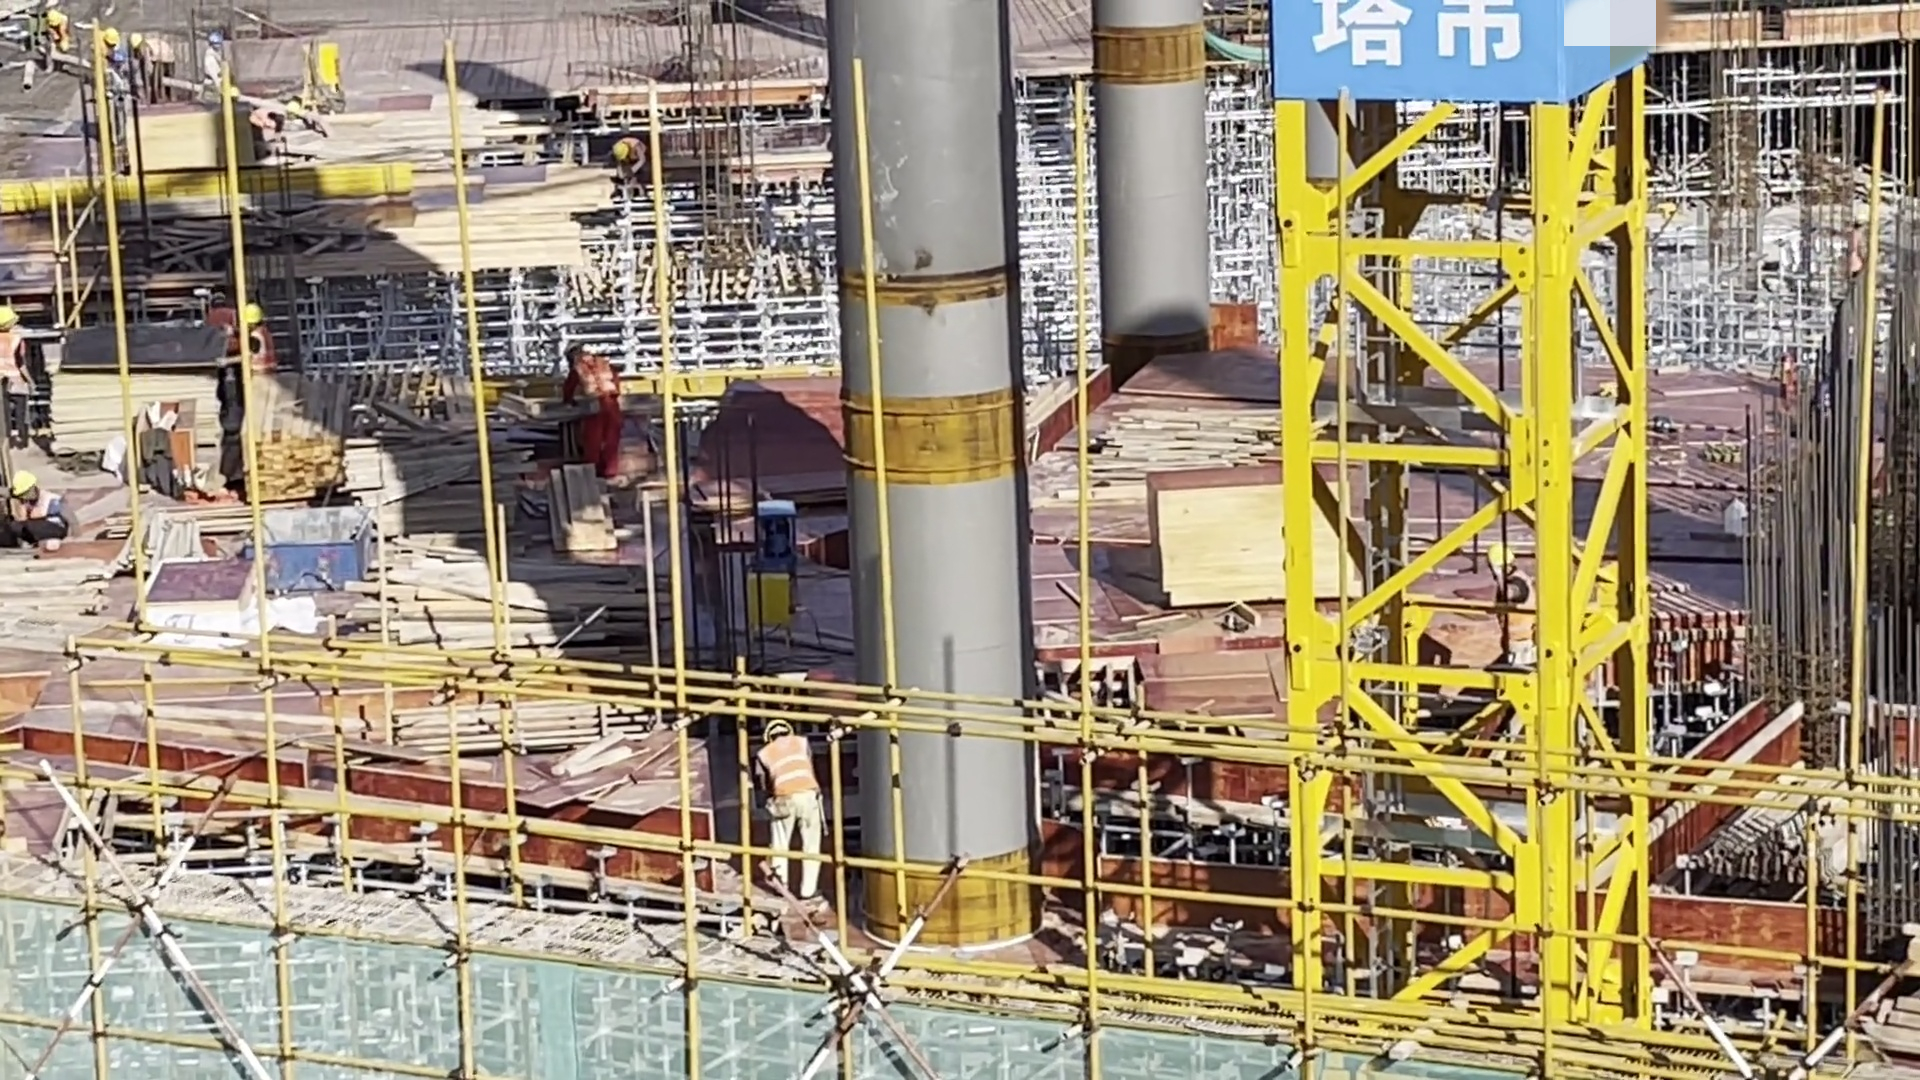board: (1149, 454, 1383, 622), (64, 321, 254, 414), (119, 104, 273, 191)
cutter: (646, 462, 818, 616)
ebox: (761, 569, 803, 646), (283, 36, 334, 87)
helmet: (754, 711, 789, 746), (4, 459, 33, 497), (233, 301, 266, 326), (1488, 549, 1521, 571), (1, 303, 28, 324), (288, 102, 304, 123), (569, 342, 599, 354), (611, 141, 629, 157), (216, 292, 235, 305), (218, 28, 228, 50), (108, 26, 118, 48), (129, 31, 140, 47), (48, 14, 60, 23)
hopper: (243, 501, 384, 594)
person: (758, 716, 836, 888), (1484, 545, 1548, 681), (569, 348, 621, 480), (3, 295, 45, 431), (9, 465, 78, 541), (134, 33, 188, 108), (1846, 200, 1886, 298), (614, 123, 668, 183), (241, 307, 270, 374), (254, 102, 306, 139), (38, 4, 79, 42), (209, 26, 229, 95), (98, 31, 133, 66), (205, 287, 230, 327)
vest: (573, 347, 623, 416), (1491, 572, 1533, 651), (768, 744, 811, 812), (18, 486, 66, 529), (1, 335, 29, 384), (623, 136, 648, 167), (248, 334, 272, 364), (45, 12, 72, 31), (155, 39, 175, 65), (258, 104, 274, 135), (1847, 232, 1861, 267), (95, 42, 116, 63), (198, 60, 215, 84), (215, 308, 235, 325)
wood: (384, 551, 674, 651), (359, 431, 524, 534), (223, 402, 349, 519)
